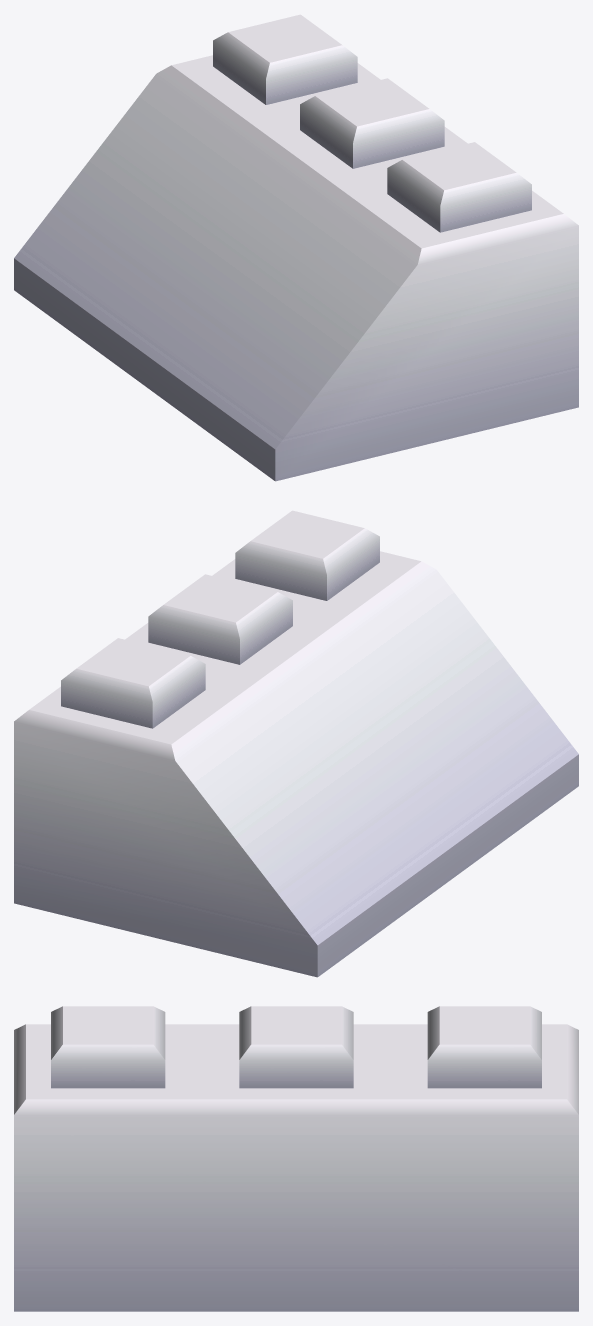
The model's file is square-hq-brick-slope-2x3.glb.
3 views of the same model, one above another, from view 1: azimuth 30°, elevation 25°; view 2: azimuth 150°, elevation 25°; view 3: azimuth 270°, elevation 25° (orthographic). The views are drawn at different scales.
Parts seen in each view (by area): view 1: square-hq-brick-slope-2x3; view 2: square-hq-brick-slope-2x3; view 3: square-hq-brick-slope-2x3.
Part boxes in pixels (x1,y1,x2,y2): square-hq-brick-slope-2x3: [14, 14, 578, 481]; square-hq-brick-slope-2x3: [14, 510, 578, 977]; square-hq-brick-slope-2x3: [14, 1006, 578, 1311].
Size of the model in its own units: 0.159 by 0.114 by 0.237.
1 material, 1 textured.
